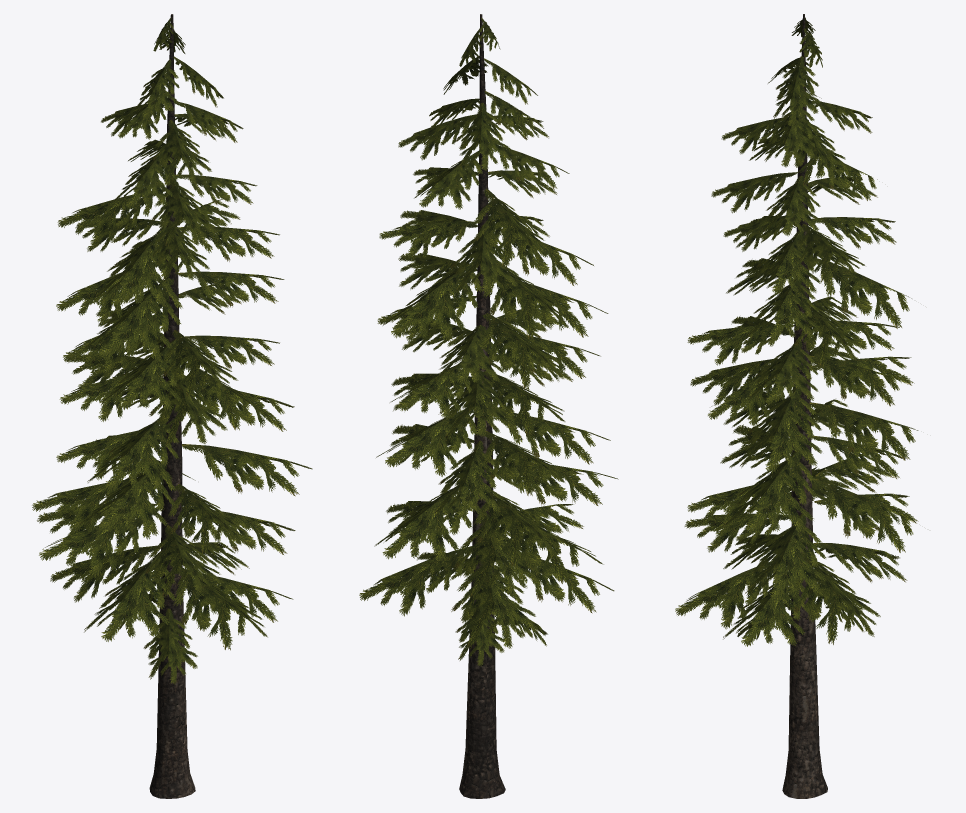
File: pine_tree_n_2_2.obj
3 renders of one model, left to right at view 1: azimuth 30°, elevation 25°; view 2: azimuth 150°, elevation 25°; view 3: azimuth 270°, elevation 25°, orthographic.
Parts seen in each view (by area): view 1: pine_tree_n_2_2_branches, pine_tree_n_2_2; view 2: pine_tree_n_2_2_branches, pine_tree_n_2_2; view 3: pine_tree_n_2_2_branches, pine_tree_n_2_2.
Part boxes in pixels (x1,y1,x2,y2): pine_tree_n_2_2_branches: (32, 18, 312, 684); pine_tree_n_2_2: (149, 14, 195, 798); pine_tree_n_2_2_branches: (359, 17, 618, 666); pine_tree_n_2_2: (459, 14, 505, 798); pine_tree_n_2_2_branches: (675, 17, 918, 646); pine_tree_n_2_2: (782, 14, 827, 798).
Bounding box in the file's own units: 2.95 × 8.19 × 2.79.
